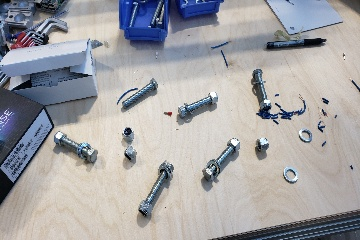Bolt: (118, 76, 160, 117)
FalseAssembly: (173, 82, 226, 126), (247, 68, 274, 112)
FinishedAssembly: (136, 159, 176, 216), (200, 132, 243, 182), (51, 128, 100, 164)
Nut: (250, 135, 273, 156), (118, 123, 139, 145), (120, 145, 144, 164)
Washer: (281, 164, 299, 184), (296, 127, 314, 143)
